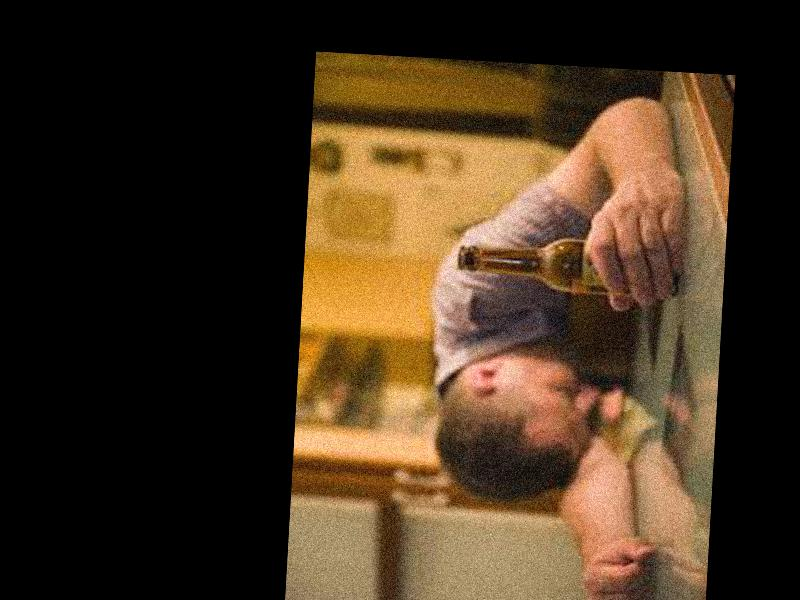Beer: (455, 235, 682, 296)
